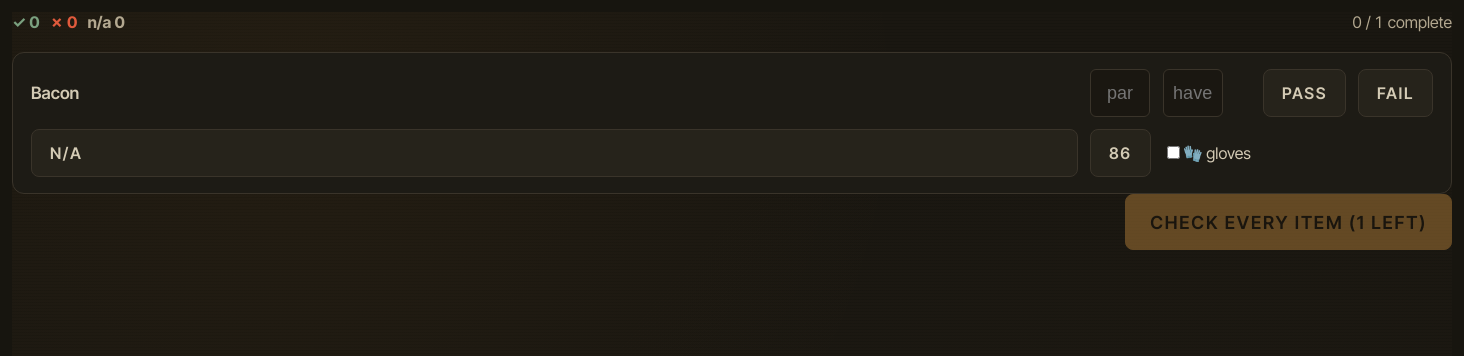
Scenario: StationChecklist glove attestation › click without a row status — inline error, does not POST, and stays unchecked
This screenshot has width=1464, height=356.
Click the checkbox named "Glove change attested for Bacon" at (1173, 152), box [1167,146,1180,159]
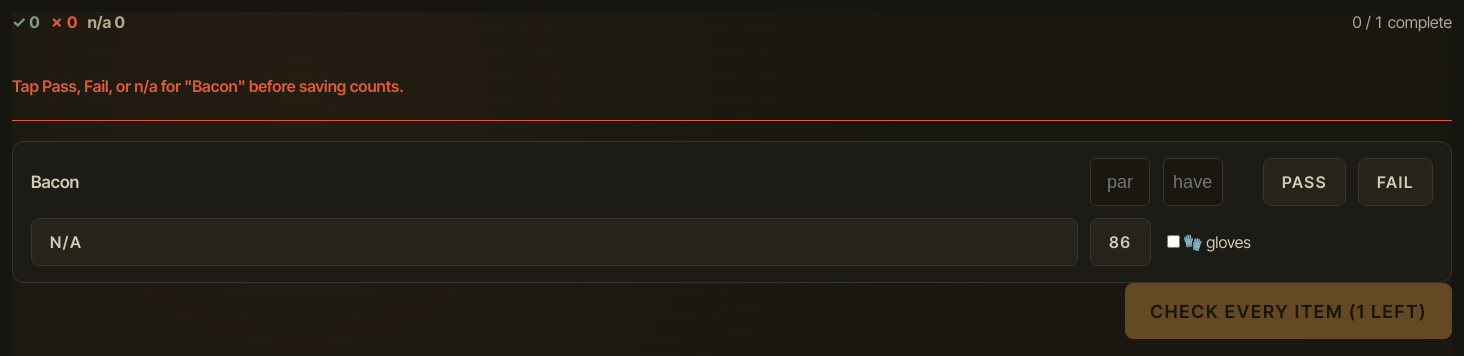
Expected: the checkbox named "Glove change attested for Bacon" is not checked, [1167,235,1180,248]
Now the message "Tap Pass, Fail, or n/a for \"Bacon\" before saving counts." is shown, box [12,52,1452,121]
